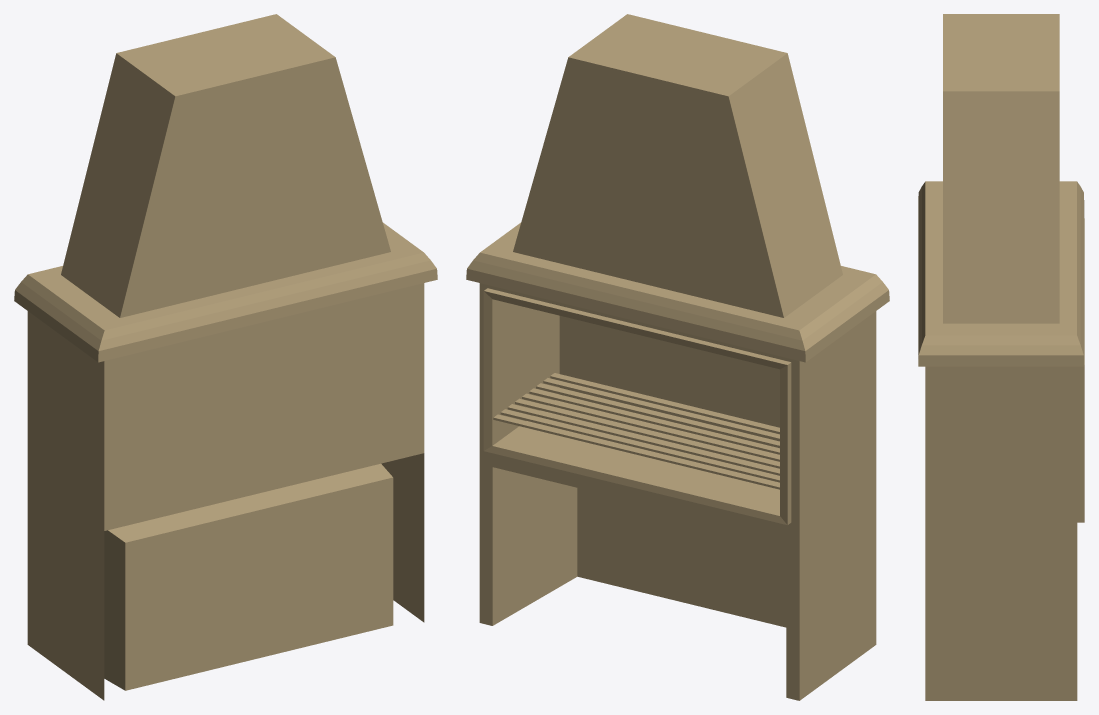
Rendered from barbacoa.fbx.
3 views of the same model, side by side, from view 1: azimuth 30°, elevation 25°; view 2: azimuth 150°, elevation 25°; view 3: azimuth 270°, elevation 25° (orthographic).
Parts seen in each view (by area): view 1: Box003; view 2: Box003; view 3: Box003.
Boxes of the visible parts, <box> form: Box003: <box>14,14,437,700</box>; Box003: <box>466,14,889,700</box>; Box003: <box>918,14,1084,700</box>.
Size of the model in its own units: 2483 by 4042 by 1068.
